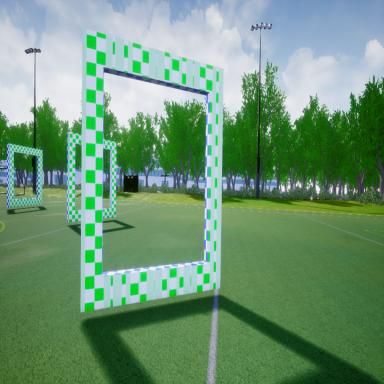gate: (81, 19, 224, 320), (65, 131, 118, 225), (4, 140, 44, 214)
